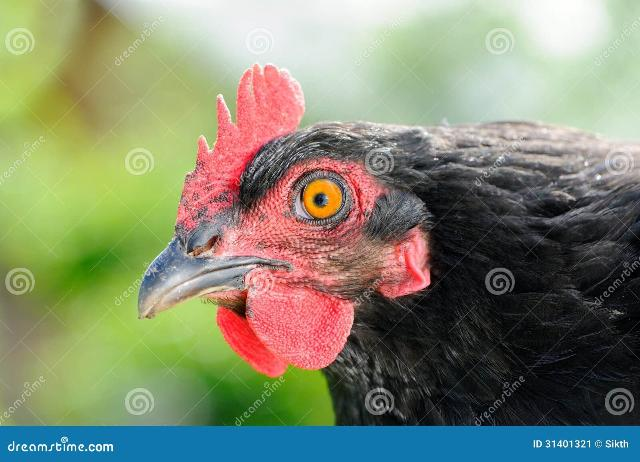Chicken: (135, 61, 639, 425)
